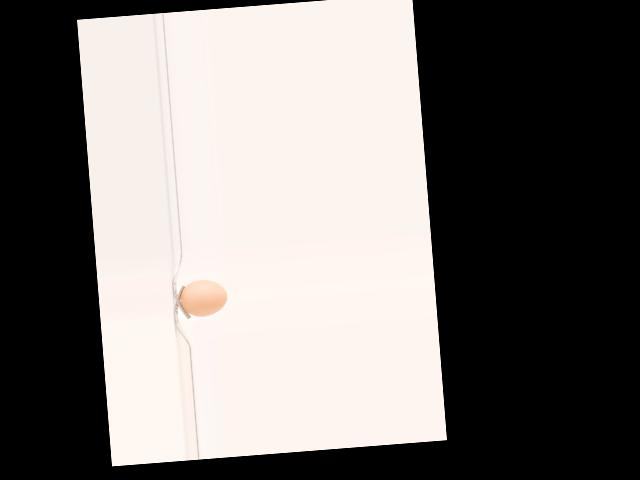egg: (179, 277, 228, 317)
